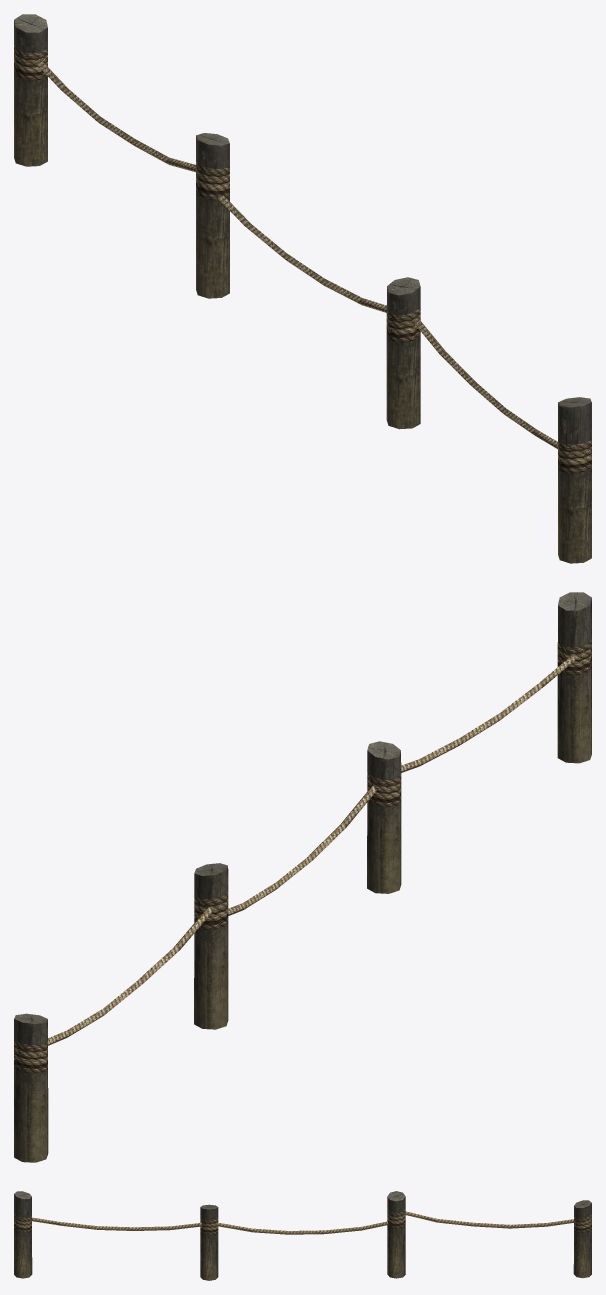
Rendered from fortms_pier_pillarset.fbx.
The picture shows the model from 3 angles, top to bottom: view 1: azimuth 30°, elevation 25°; view 2: azimuth 150°, elevation 25°; view 3: azimuth 270°, elevation 25°; orthographic projection. The views are drawn at different scales.
Parts seen in each view (by area): view 1: fortMS_pier_pillarset; view 2: fortMS_pier_pillarset; view 3: fortMS_pier_pillarset.
Part boxes in pixels (left/top/right/bottom): fortMS_pier_pillarset: left=14, top=14, right=591, bottom=563; fortMS_pier_pillarset: left=14, top=592, right=591, bottom=1162; fortMS_pier_pillarset: left=14, top=1191, right=591, bottom=1280.
Size of the model in its own units: 0.6414 by 2.34 by 15.13.
